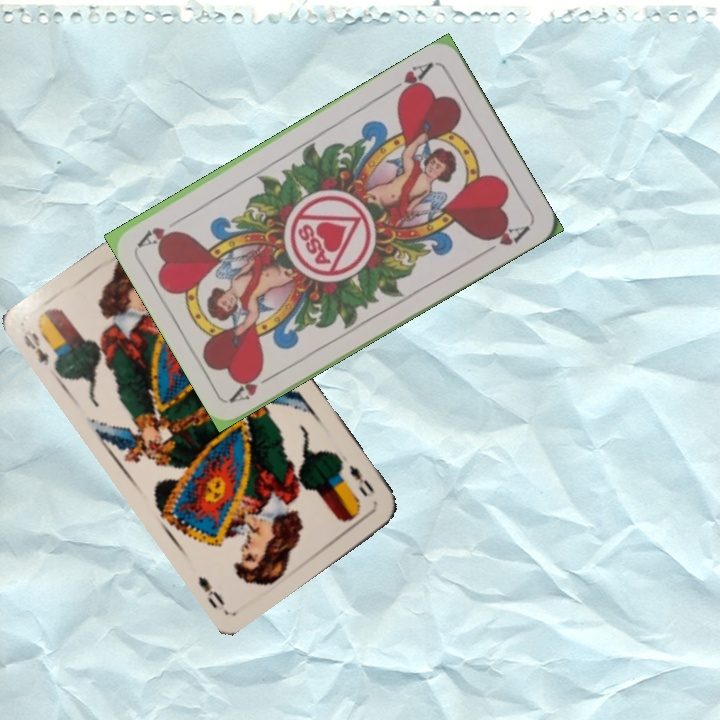EO: (19, 326, 52, 369), (345, 461, 378, 499)
HA: (383, 58, 436, 101), (227, 366, 282, 405)
